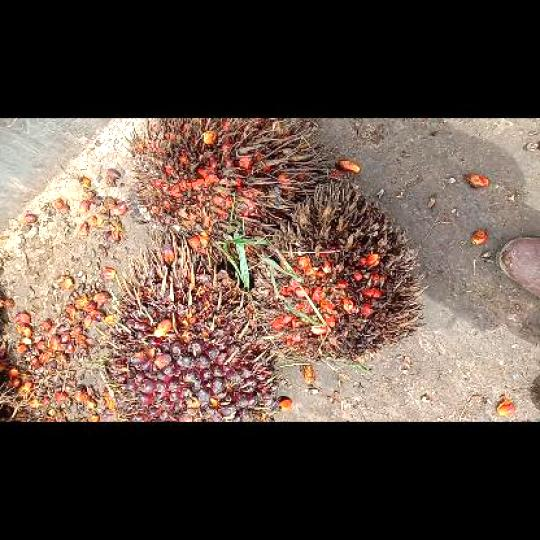masak: (97, 246, 282, 420)
terlalu masak: (249, 181, 426, 364), (126, 118, 326, 253)
